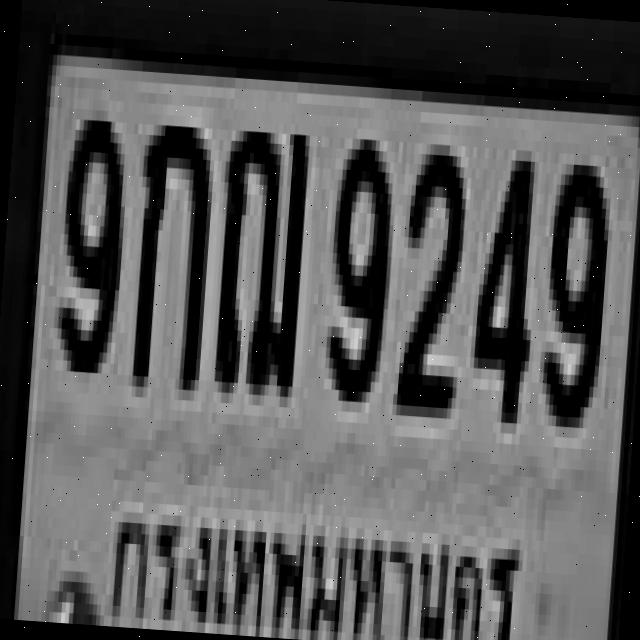10GorGai: (125, 113, 213, 380)
2: (393, 132, 466, 408)
21ChorChoe: (206, 108, 307, 386)
4: (466, 137, 540, 413)
9: (51, 97, 128, 363), (536, 152, 610, 418), (319, 126, 392, 392)
Bangkok: (98, 482, 528, 640)
